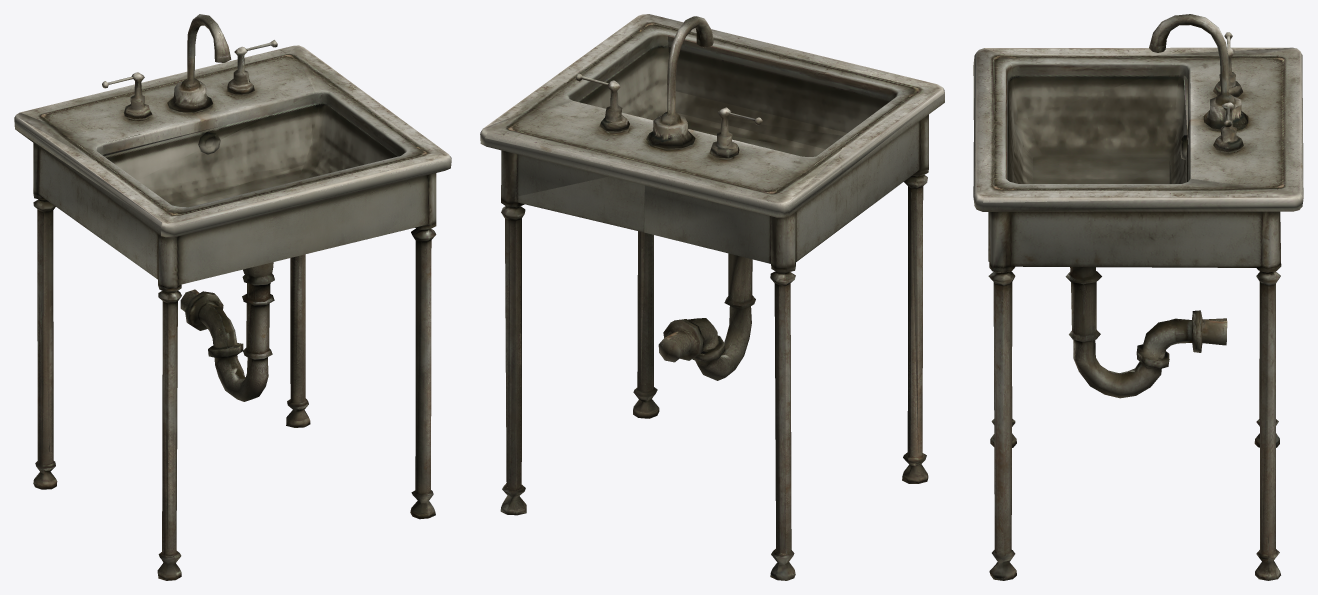
The model's file is sink.fbx.
3 views of the same model, side by side, from view 1: azimuth 30°, elevation 25°; view 2: azimuth 150°, elevation 25°; view 3: azimuth 270°, elevation 25° (orthographic). The views are drawn at different scales.
Parts seen in each view (by area): view 1: sink; view 2: sink; view 3: sink.
Part boxes in pixels (left/top/right/bottom): sink: left=14, top=14, right=451, bottom=580; sink: left=480, top=14, right=944, bottom=580; sink: left=973, top=14, right=1303, bottom=580.
Size of the model in its own units: 723 by 1105 by 669.
Materials: 1 (1 with a texture image).
